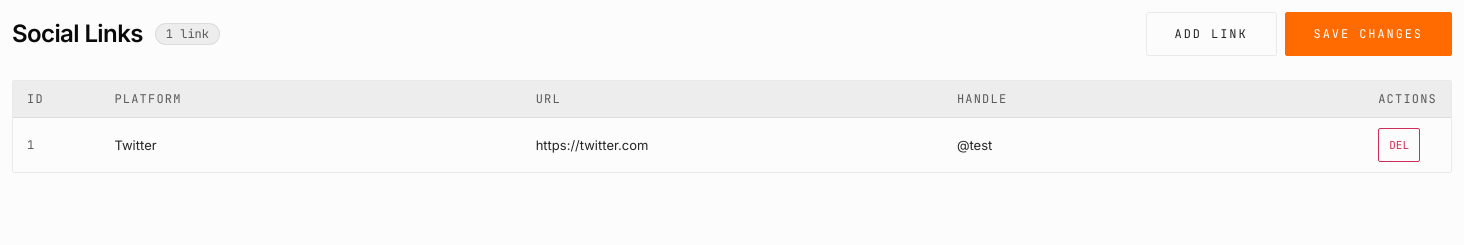
Scenario: SocialLinksForm › allows adding a new link row
Expected: the number of rows is 2, [13,81,1451,118]; [13,118,1451,172]
Click the button "Add link". click: (1211, 34)
box: [1146,12,1277,56]
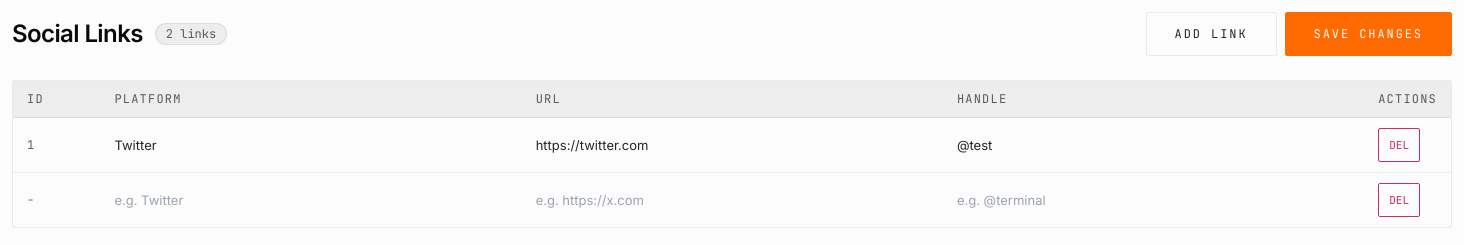
Expected: the number of rows is 3, [13,81,1451,118]; [13,118,1451,172]; [13,172,1451,227]
